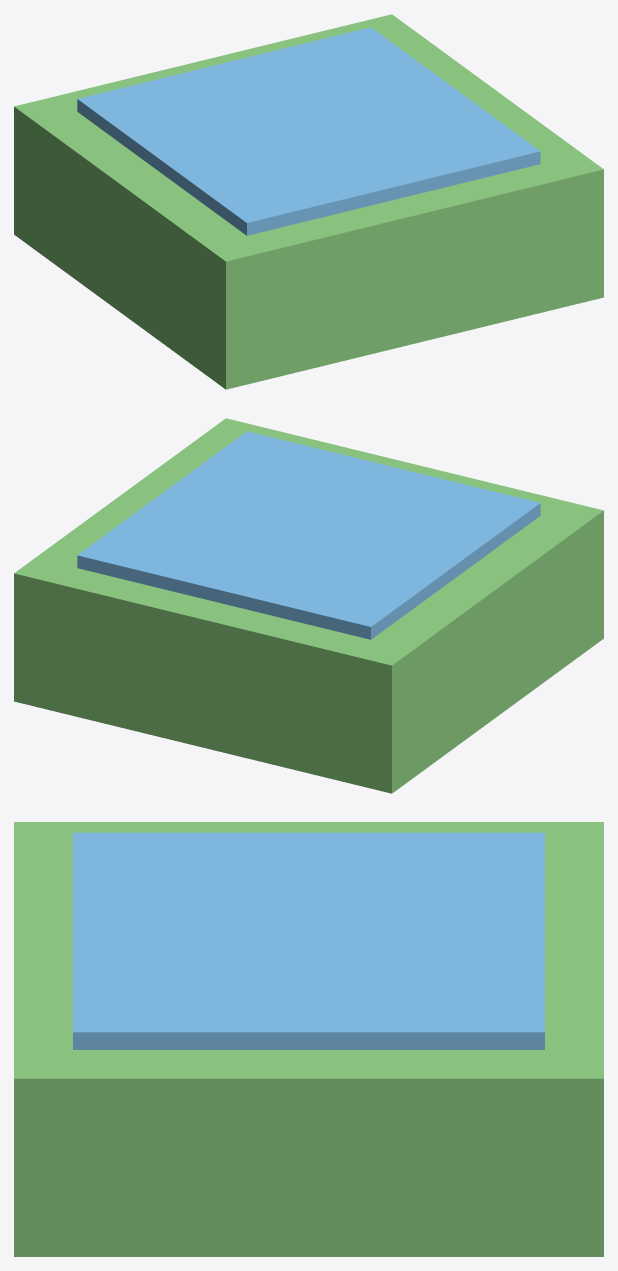
The model's file is Prop_Pet_AMF_Bowl_V15.glb.
3 renders of one model, top to bottom at view 1: azimuth 30°, elevation 25°; view 2: azimuth 150°, elevation 25°; view 3: azimuth 270°, elevation 25°, orthographic. The views are drawn at different scales.
Parts seen in each view (by area): view 1: Prop_Pet_AMF_Bowl_V15; view 2: Prop_Pet_AMF_Bowl_V15; view 3: Prop_Pet_AMF_Bowl_V15.
Boxes of the visible parts, <box> form: Prop_Pet_AMF_Bowl_V15: <box>14,14,603,389</box>; Prop_Pet_AMF_Bowl_V15: <box>14,418,603,793</box>; Prop_Pet_AMF_Bowl_V15: <box>14,822,603,1256</box>.
Bounding box in the file's own units: 0.3088 × 0.11 × 0.3.
